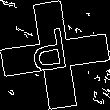P_S: (33, 27, 77, 83)
